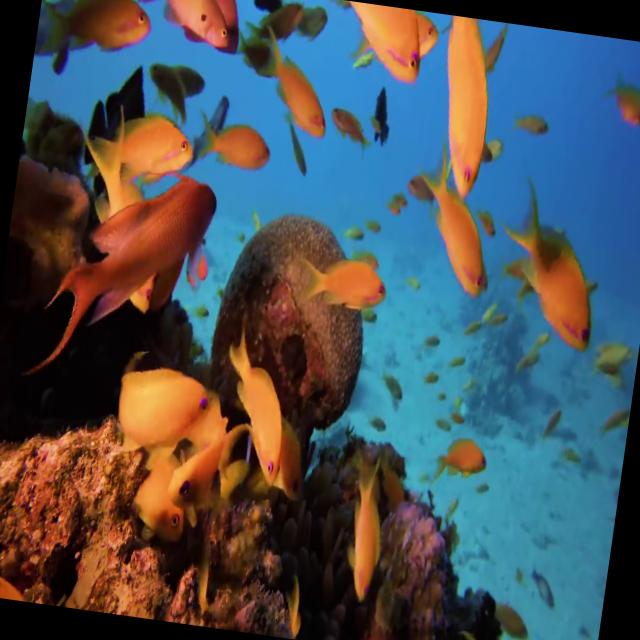fish: (53, 162, 220, 360), (71, 120, 176, 314), (495, 190, 607, 353), (402, 154, 506, 296), (427, 16, 502, 200), (246, 19, 340, 142), (218, 340, 294, 485), (110, 362, 214, 467), (88, 107, 198, 180), (165, 429, 246, 521), (39, 0, 155, 63), (342, 457, 392, 601), (296, 253, 391, 315), (127, 458, 195, 542), (192, 112, 275, 170), (134, 0, 237, 45), (434, 432, 490, 486), (602, 74, 640, 130)
